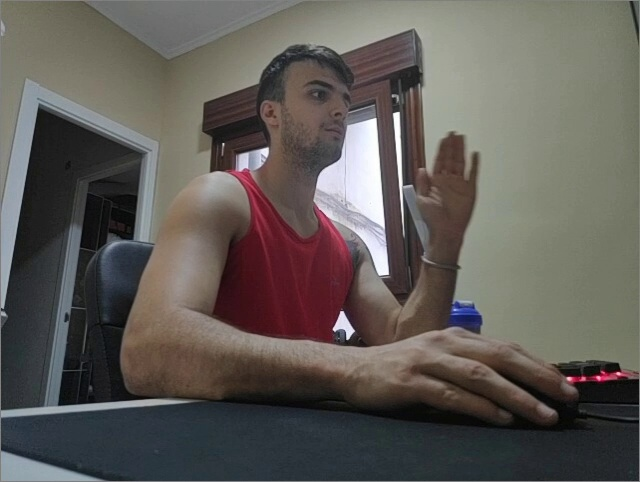Palm: (414, 130, 484, 231)
